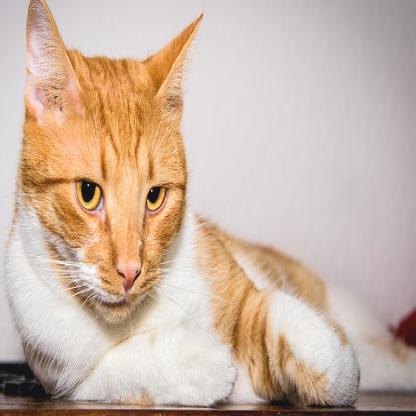cat: (3, 0, 415, 408)
